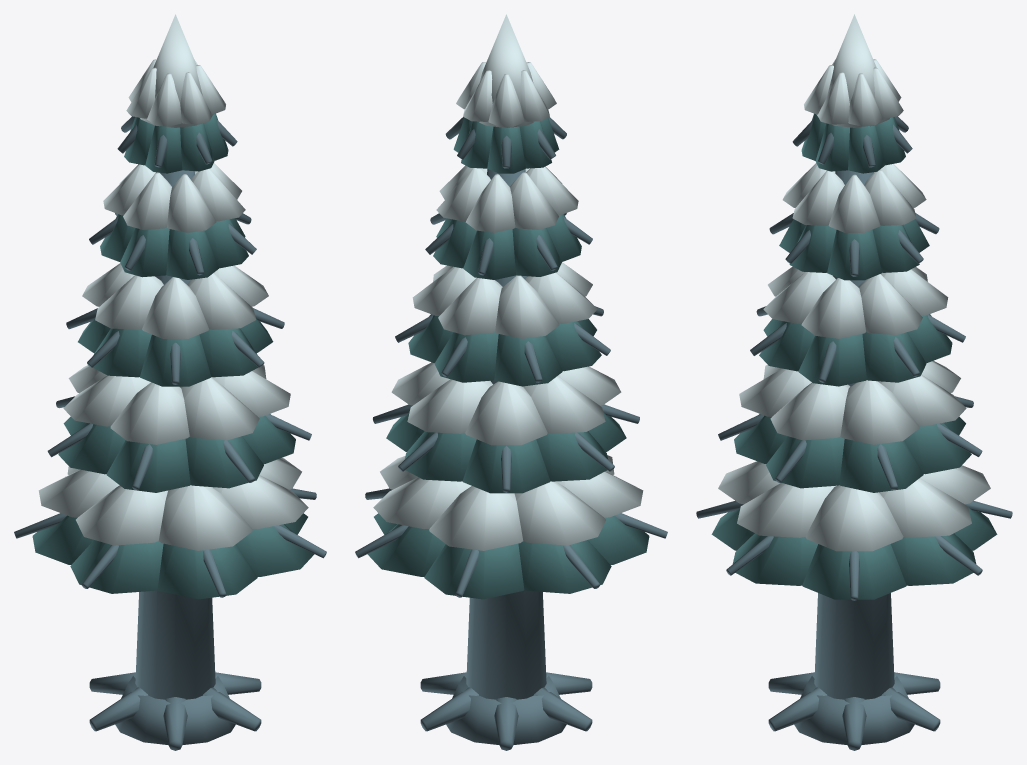
File: world13-cedars-v1.glb
3 renders of one model, left to right at view 1: azimuth 30°, elevation 25°; view 2: azimuth 150°, elevation 25°; view 3: azimuth 270°, elevation 25°, orthographic.
Parts seen in each view (by area): view 1: cedar-snow, cedar-boughs, cedar-wood; view 2: cedar-snow, cedar-boughs, cedar-wood; view 3: cedar-snow, cedar-boughs, cedar-wood.
Boxes of the visible parts, x1,y1,x2,y2 form: cedar-snow: [38, 14, 308, 550]; cedar-boughs: [32, 113, 314, 599]; cedar-wood: [14, 116, 326, 750]; cedar-snow: [373, 14, 643, 550]; cedar-boughs: [367, 117, 649, 599]; cedar-wood: [355, 117, 667, 750]; cedar-snow: [718, 14, 990, 551]; cedar-boughs: [711, 113, 997, 599]; cedar-wood: [696, 116, 1012, 750].
Size of the model in its own units: 2.08 by 5.23 by 2.13.
